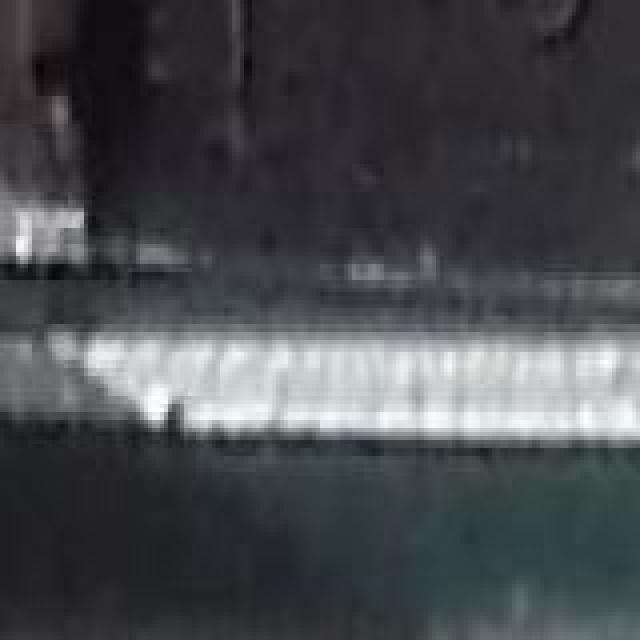diode: (0, 0, 640, 336)
